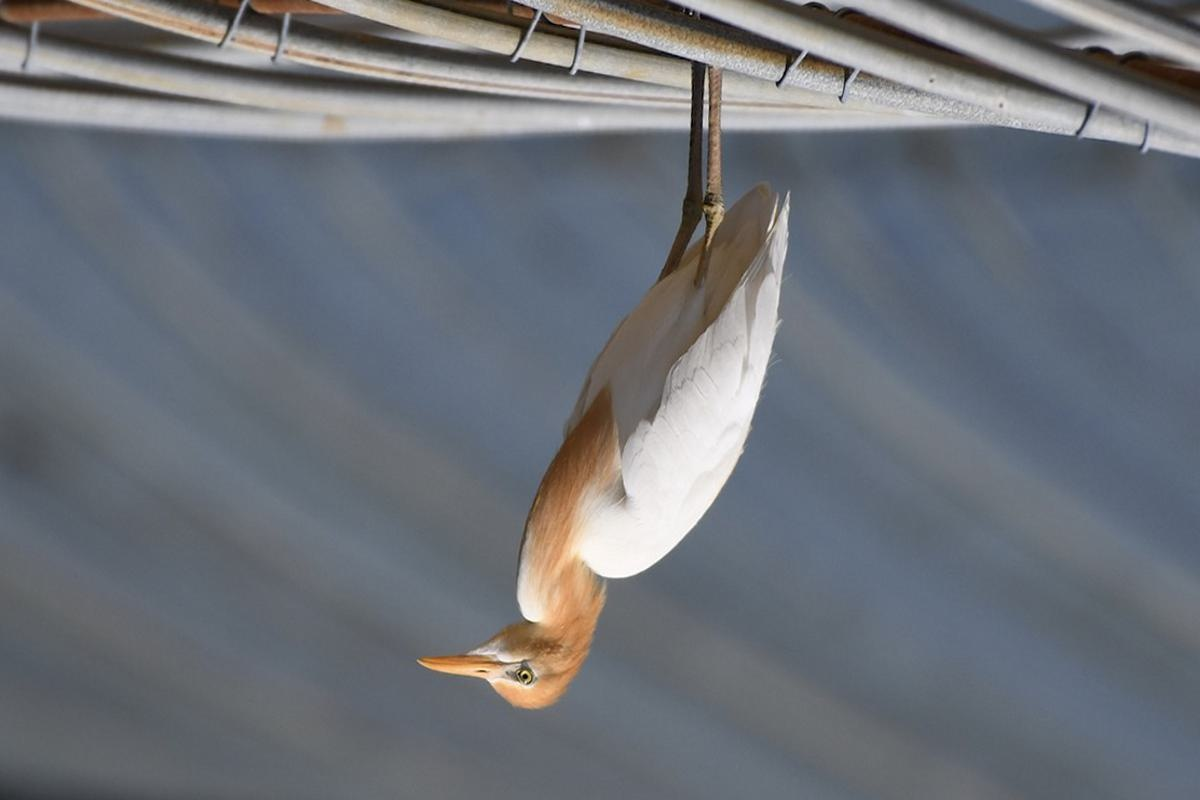egret: (423, 42, 823, 721)
